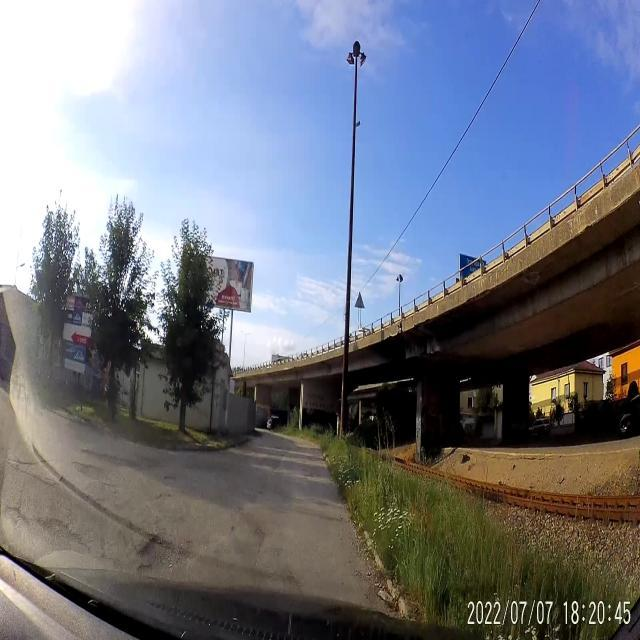Pothole: (130, 527, 183, 576), (38, 512, 84, 546), (2, 501, 28, 534), (74, 458, 104, 485)
